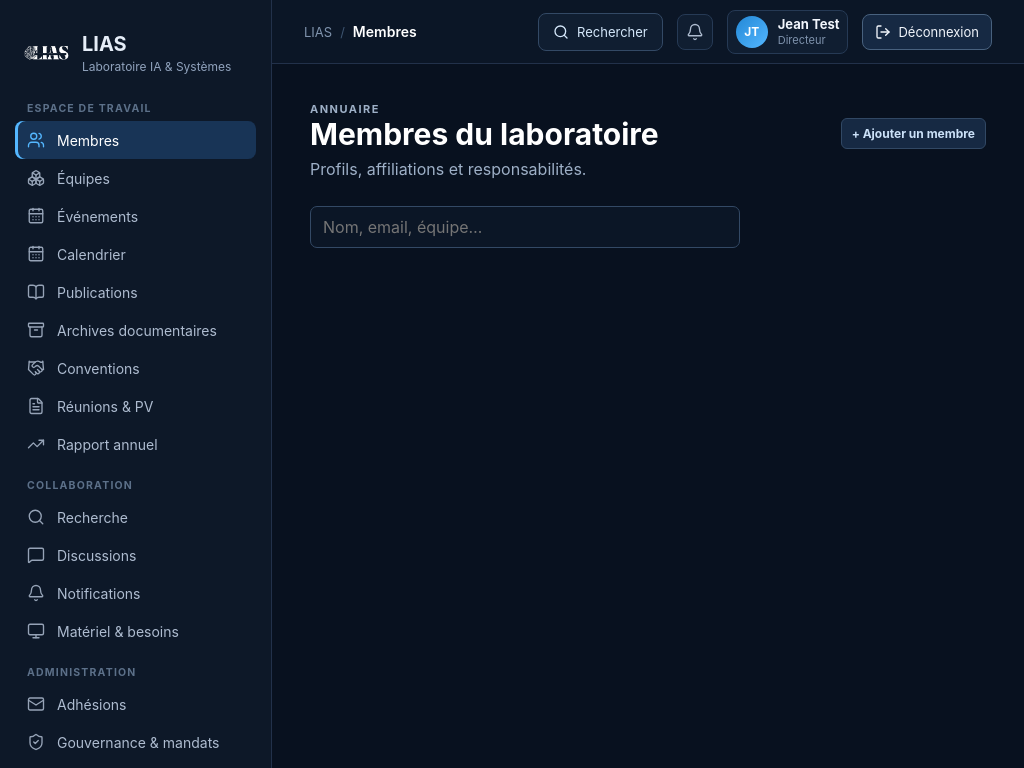
Test: Navigation et session › ouvre Équipes et permet de revenir aux notifications
Click the button "Équipes". click: (136, 178)
box: [15,159,256,197]
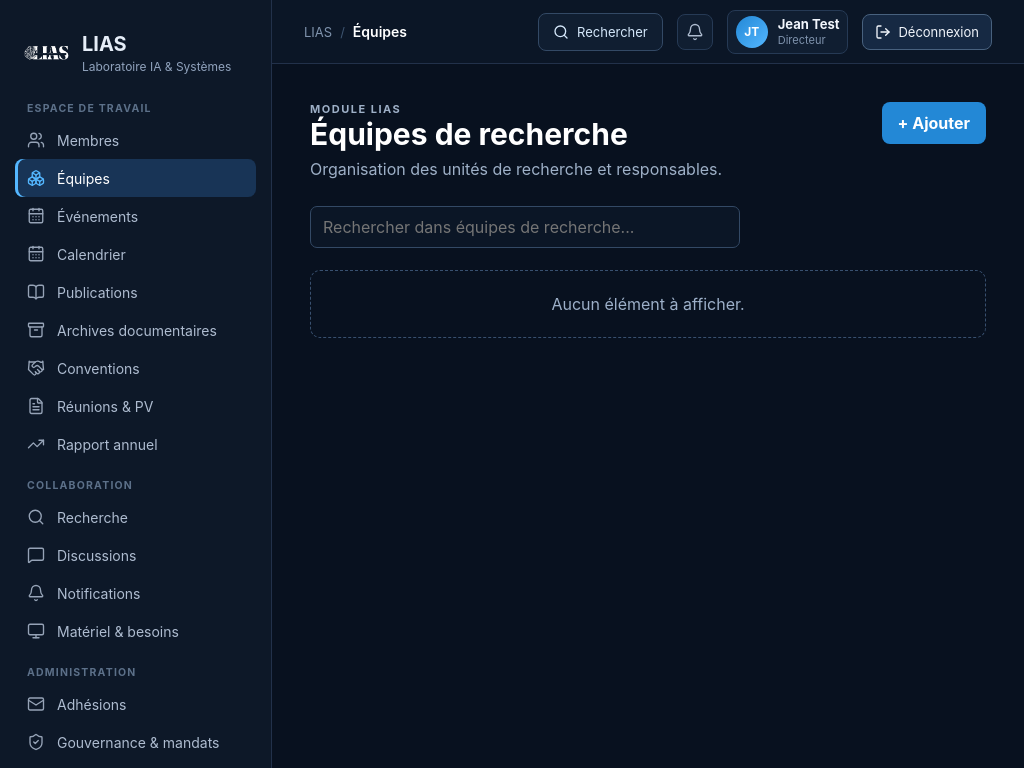
Expected: the heading "Équipes de recherche" is shown, [310,116,628,152]
Click the button "Notifications". click: (136, 593)
box: [15,574,256,612]
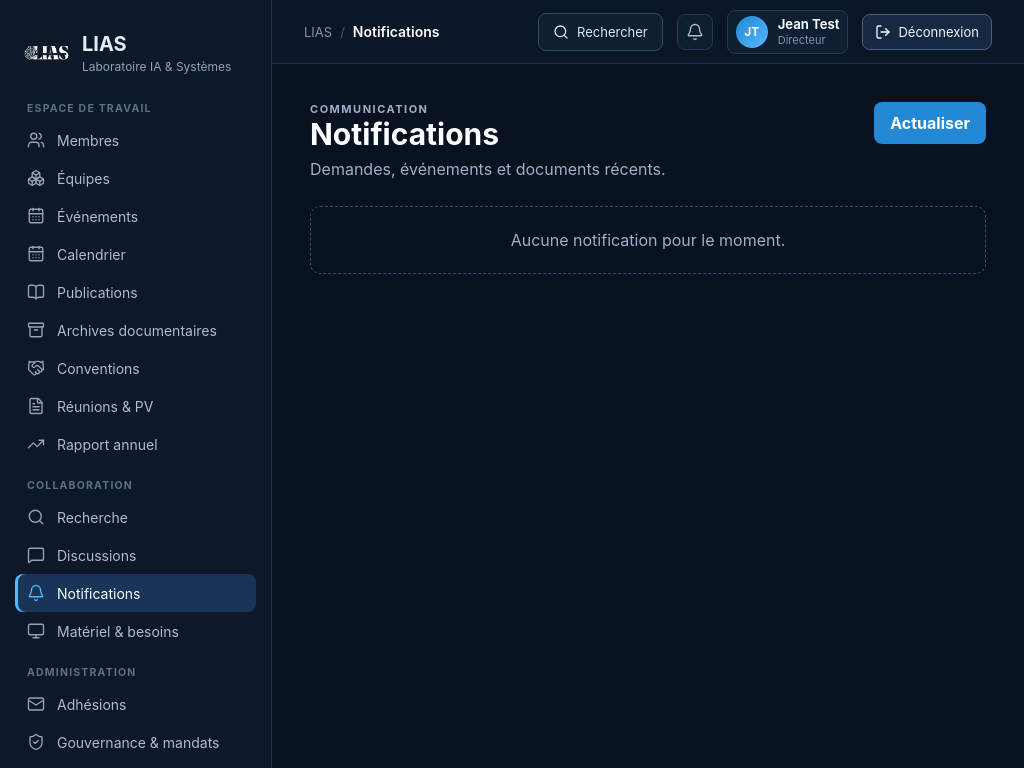
Expected: the text "Aucune notification pour le moment." is shown, [310,206,986,274]
